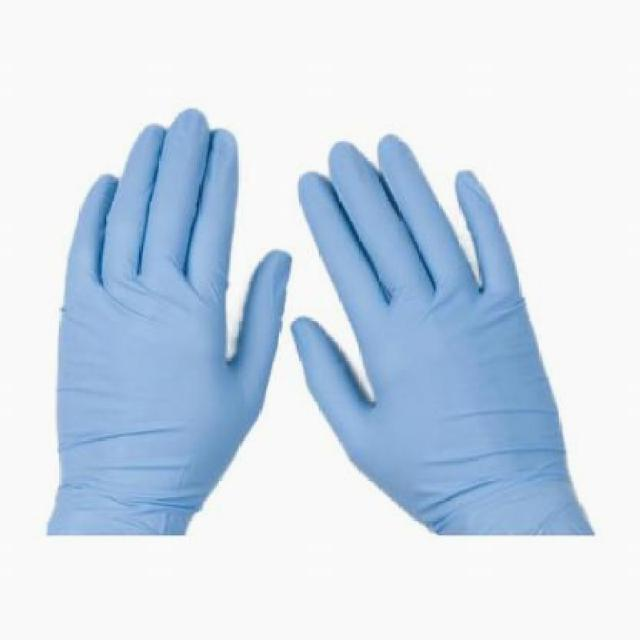glove: (292, 114, 592, 540), (26, 108, 292, 532)
